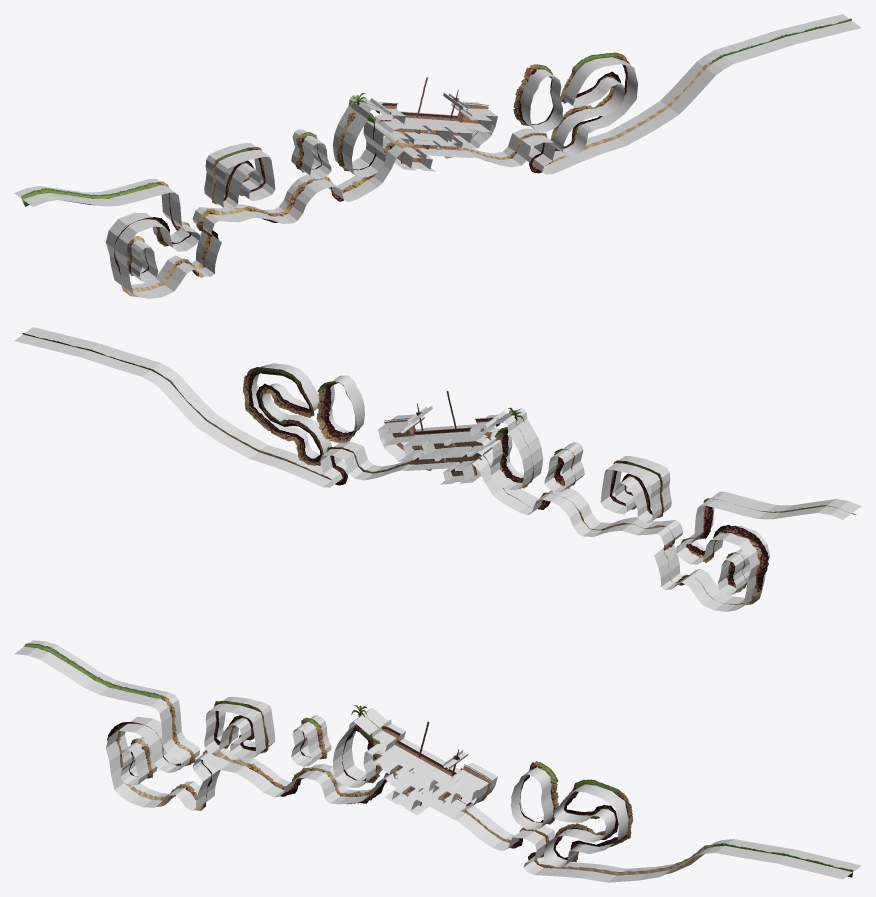
Rendered from Pirate Ship Test.FBX.
3 views of the same model, one above another, from view 1: azimuth 30°, elevation 25°; view 2: azimuth 150°, elevation 25°; view 3: azimuth 330°, elevation 25° (orthographic).
Parts seen in each view (by area): view 1: LVL12 Col, LVL12 RockToSand, LVL12 GrassToRock; view 2: LVL12 Col, LVL12 RockToSand, LVL12 GrassToRock, Pirate Ship Interior; view 3: LVL12 Col, LVL12 RockToSand, LVL12 GrassToRock.
Part boxes in pixels (x1,y1,x2,y2): LVL12 Col: (14, 14, 861, 298); LVL12 RockToSand: (114, 68, 688, 297); LVL12 GrassToRock: (21, 52, 629, 206); LVL12 Col: (14, 327, 861, 611); LVL12 RockToSand: (186, 385, 768, 604); LVL12 GrassToRock: (242, 367, 856, 514); Pirate Ship Interior: (409, 432, 492, 476); LVL12 Col: (14, 640, 861, 882); LVL12 RockToSand: (107, 707, 690, 875); LVL12 GrassToRock: (23, 643, 633, 861).
Size of the model in its own units: 29411 by 1172 by 5052.
